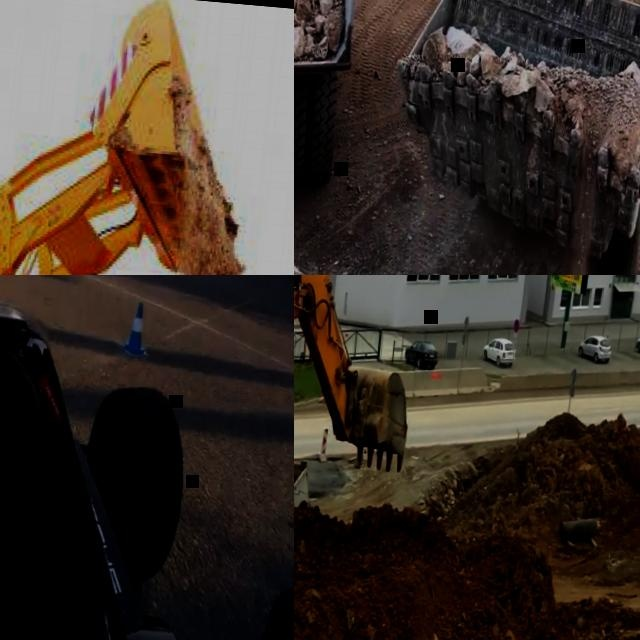Safety Cone: (121, 297, 156, 364)
machinery: (374, 0, 640, 275), (0, 0, 265, 275), (294, 275, 428, 640)
vehicle: (0, 283, 231, 640), (482, 336, 518, 368), (404, 338, 440, 370), (578, 333, 613, 364)
